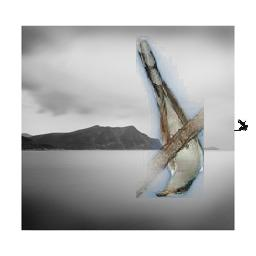Crow: (234, 119, 249, 131)
Cuckoo: (136, 36, 204, 198)
